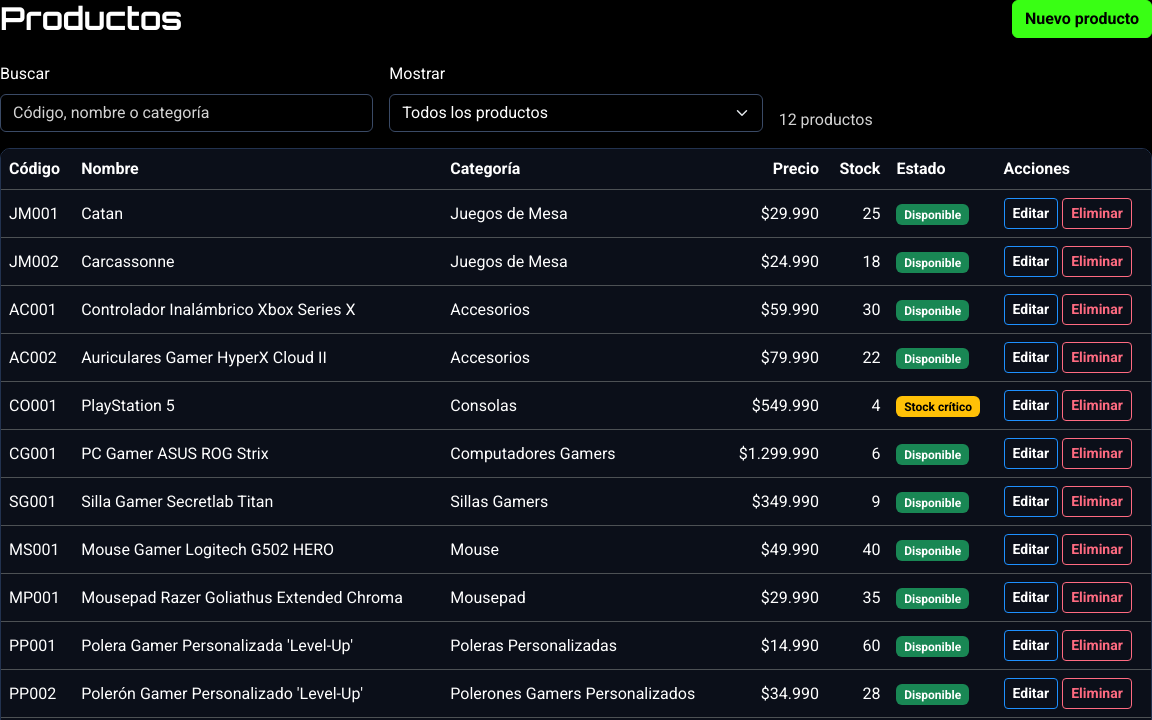
Test: ProductosAdmin › eliminar pide confirmación; al confirmar borra el producto y lo saca del carrito
Step 1. Click the button "Eliminar" in the row of "JM001" → (1097, 214), box x1=1062 y1=198 x2=1132 y2=229
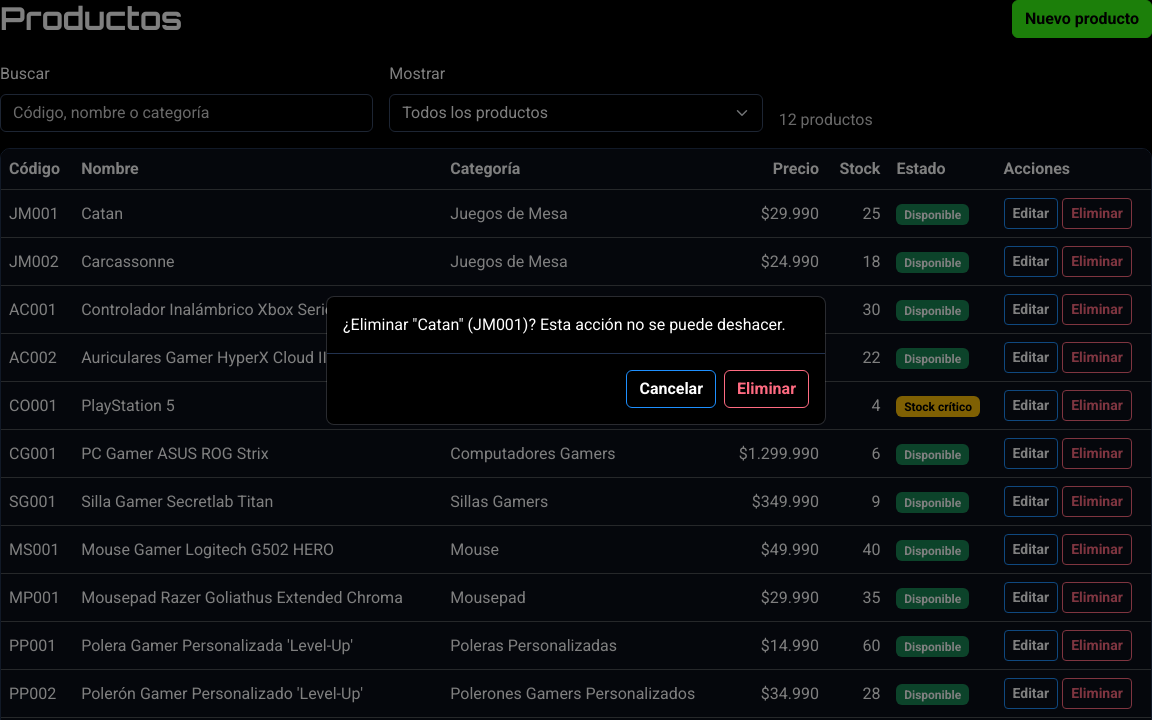
Result: the text "¿Eliminar \"Catan\" (JM001)? Esta acción no se puede deshacer." is shown at x1=343 y1=312 x2=809 y2=336
Step 2. Click the button "Cancelar" → (671, 388), box x1=626 y1=370 x2=716 y2=408
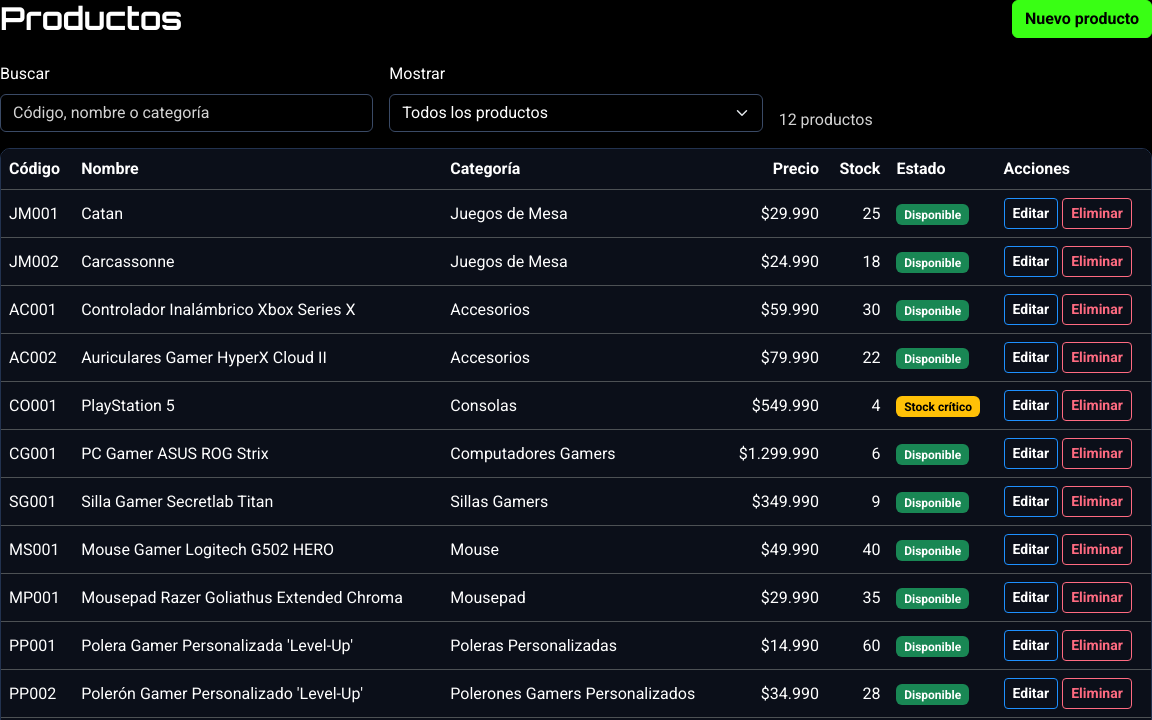
Step 3. Click the button "Eliminar" in the row of "JM001" → (1097, 214), box x1=1062 y1=198 x2=1132 y2=229
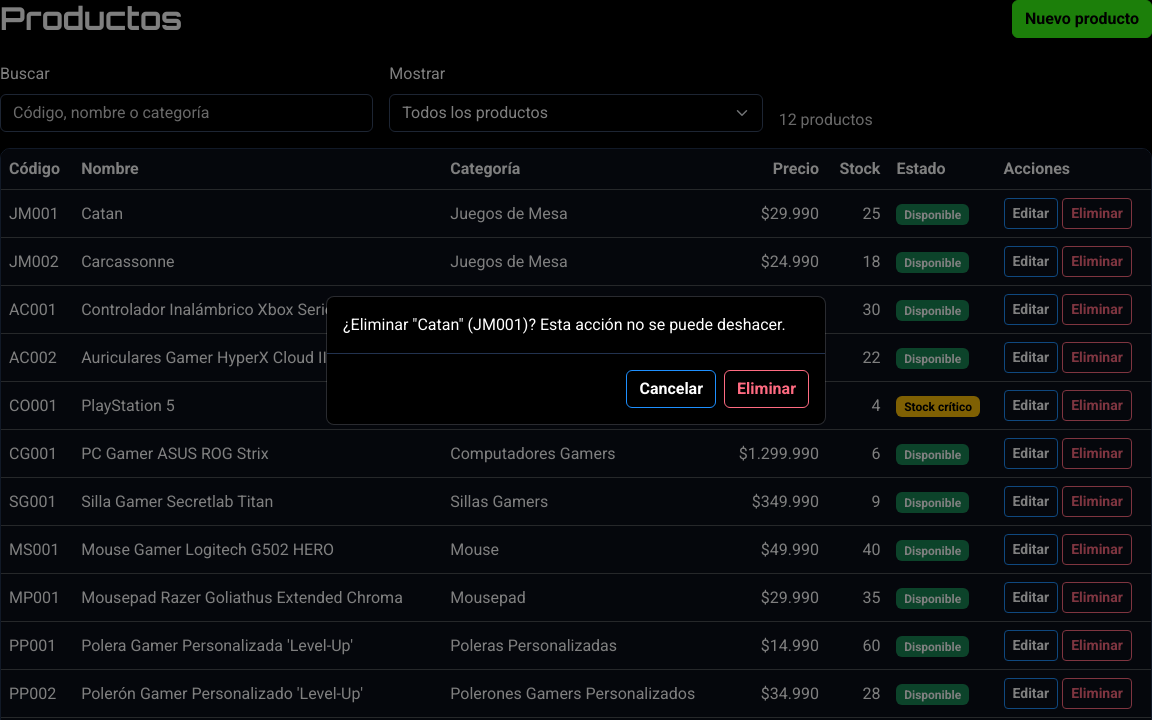
Step 4. Click the button "Eliminar" → (766, 388), box x1=724 y1=370 x2=809 y2=408
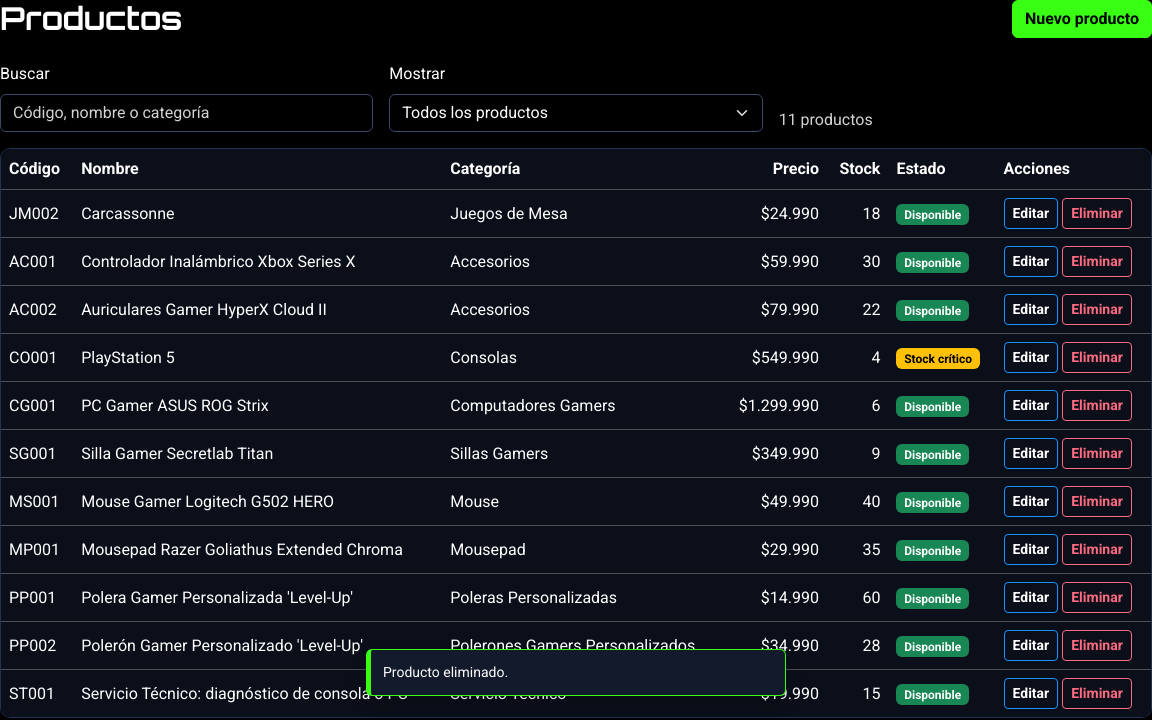
Result: the text "Producto eliminado." is shown at x1=383 y1=664 x2=508 y2=680
Result: the text with test id "conteo-productos" reads "11 productos" at x1=779 y1=110 x2=873 y2=129
